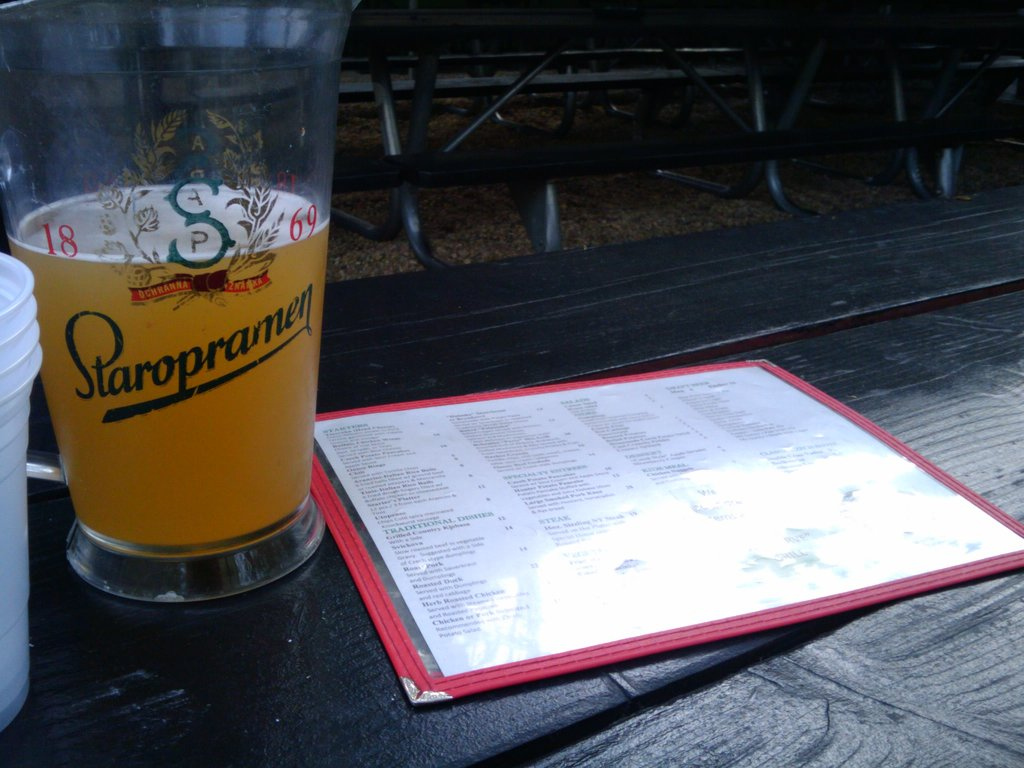Beer: (7, 182, 328, 554)
